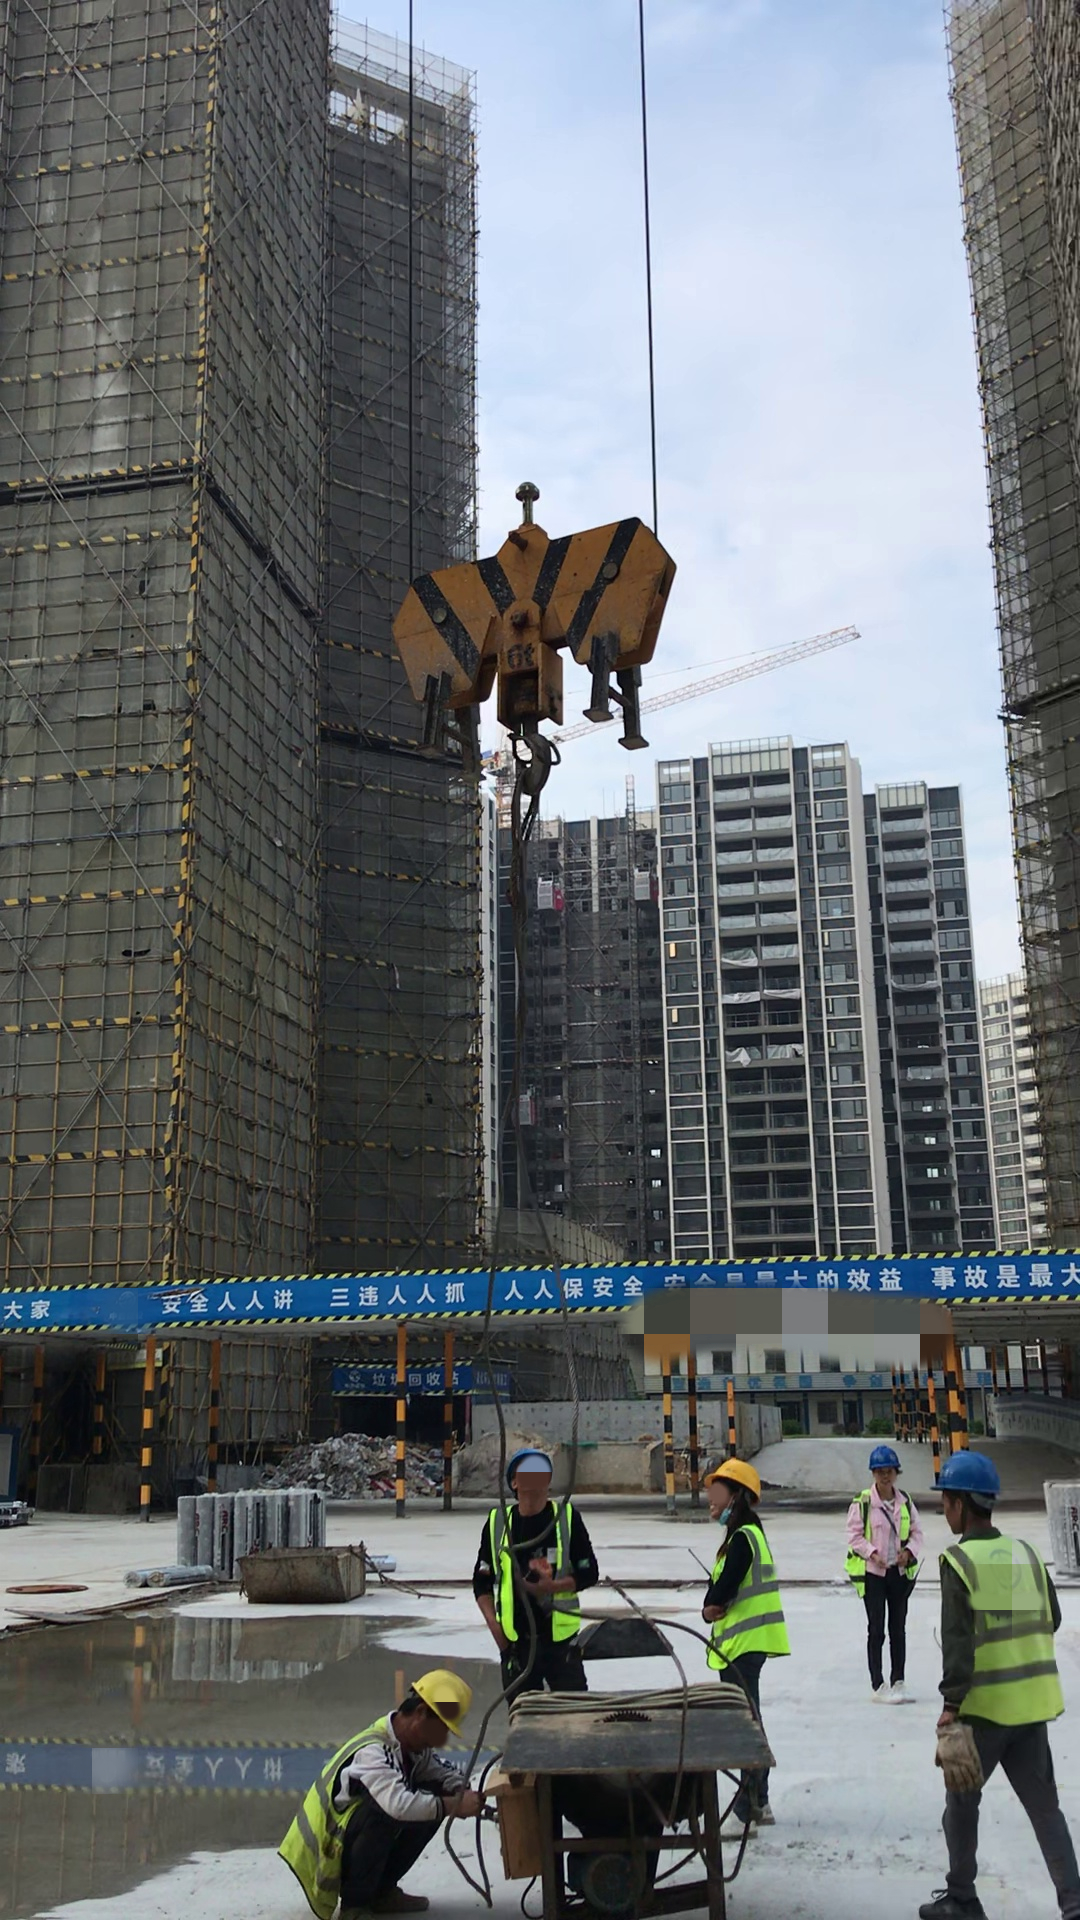board: (496, 1682, 783, 1785)
helmet: (408, 1669, 474, 1742), (932, 1451, 1007, 1497), (707, 1455, 769, 1507), (504, 1452, 556, 1489), (862, 1447, 905, 1473)
hook: (381, 483, 678, 805)
hopper: (227, 1537, 384, 1603)
person: (916, 1446, 1079, 1920), (279, 1666, 490, 1920), (683, 1456, 796, 1830), (466, 1447, 601, 1706), (841, 1443, 926, 1705)
slogan: (12, 1257, 1080, 1318)
vest: (924, 1523, 1073, 1732), (284, 1715, 422, 1882), (478, 1498, 578, 1637), (707, 1525, 788, 1677)
